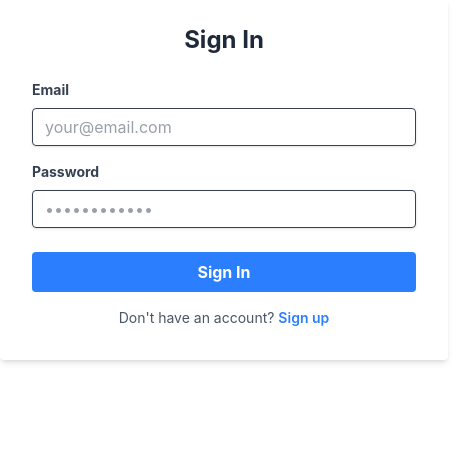
Test: LoginForm › shows generic error on login failure
The image size is (466, 471).
Type "test@example.com" into the field labelled "Email" at point(224, 127), box [32,108,416,146]
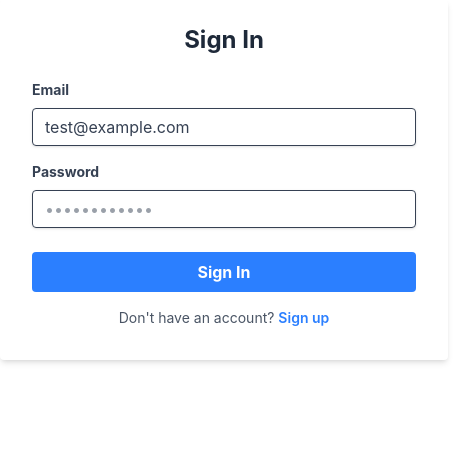
Type "password123" into the password field labelled "Password" at point(224, 209), box [32,190,416,228]
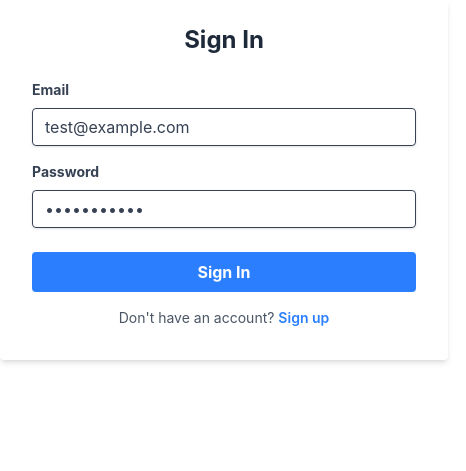
Click the button "Sign In" at point(224, 272), box [32,252,416,292]
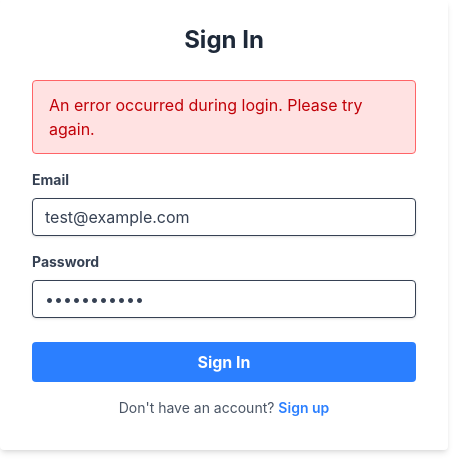
Now the text "An error occurred during login. Please try again." is shown, box [32,80,416,154]
